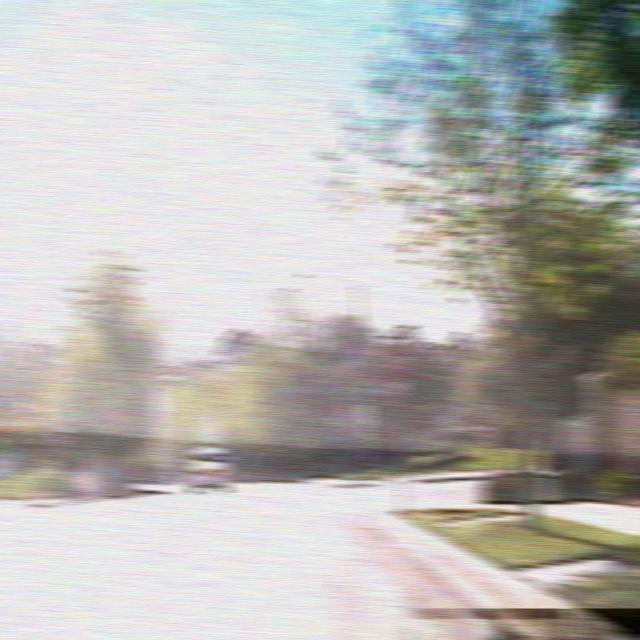stop_sign: (377, 341, 415, 384)
